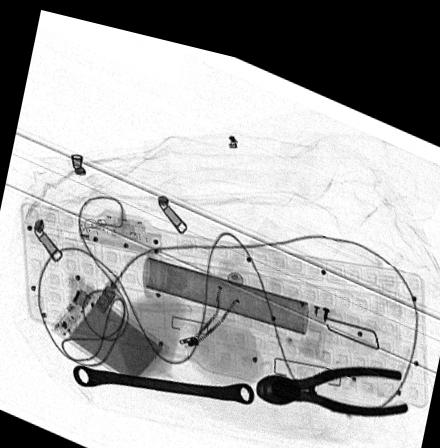Pliers: (253, 347, 410, 397)
Powerbank: (49, 281, 168, 383)
Wrench: (71, 359, 255, 391)
